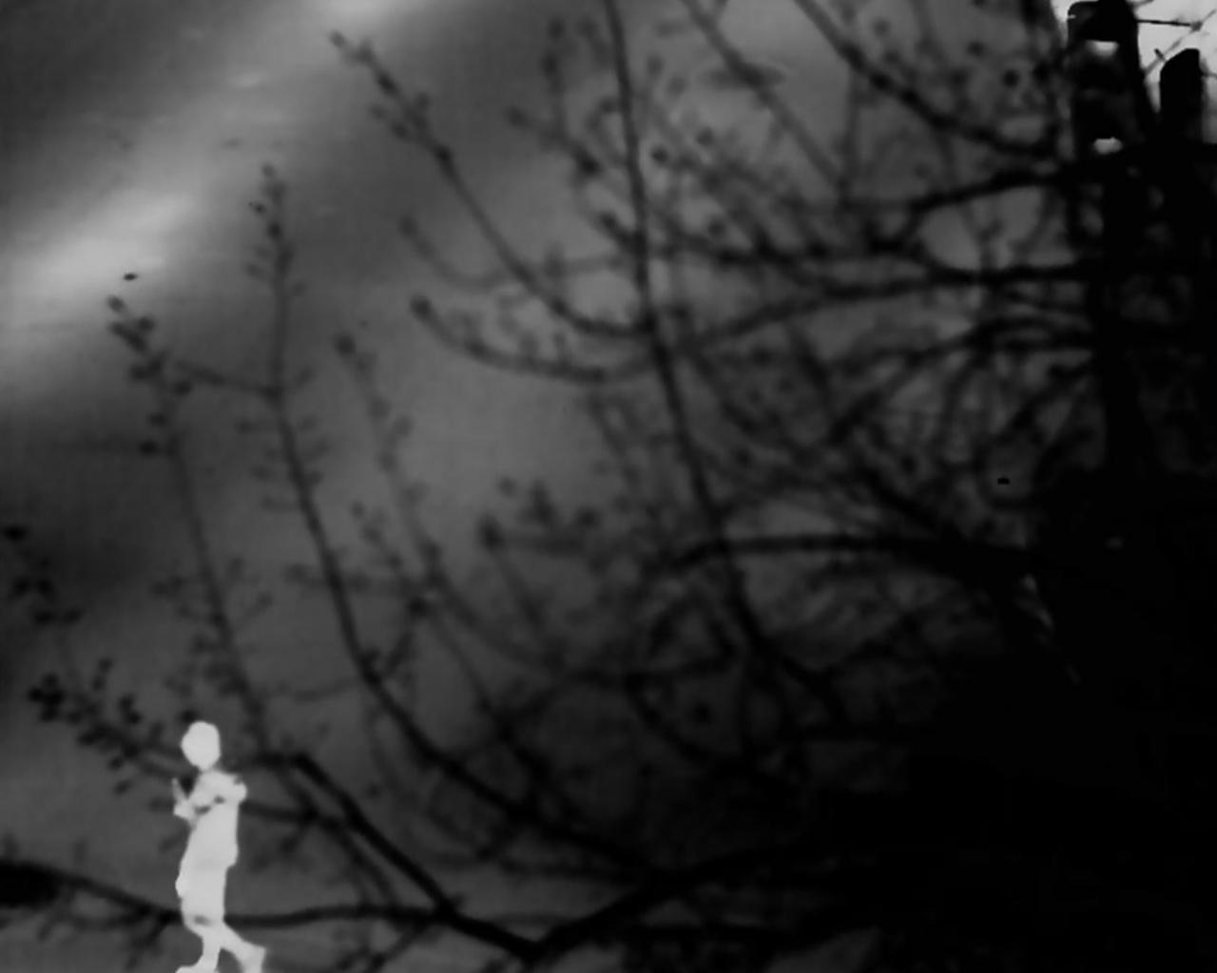person: (162, 723, 262, 963)
